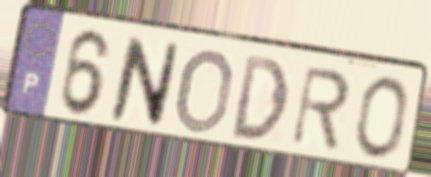6: (58, 26, 112, 120)
D: (230, 52, 291, 143)
N: (107, 33, 184, 131)
O: (172, 45, 237, 136), (353, 73, 410, 162)
R: (288, 63, 353, 154)
